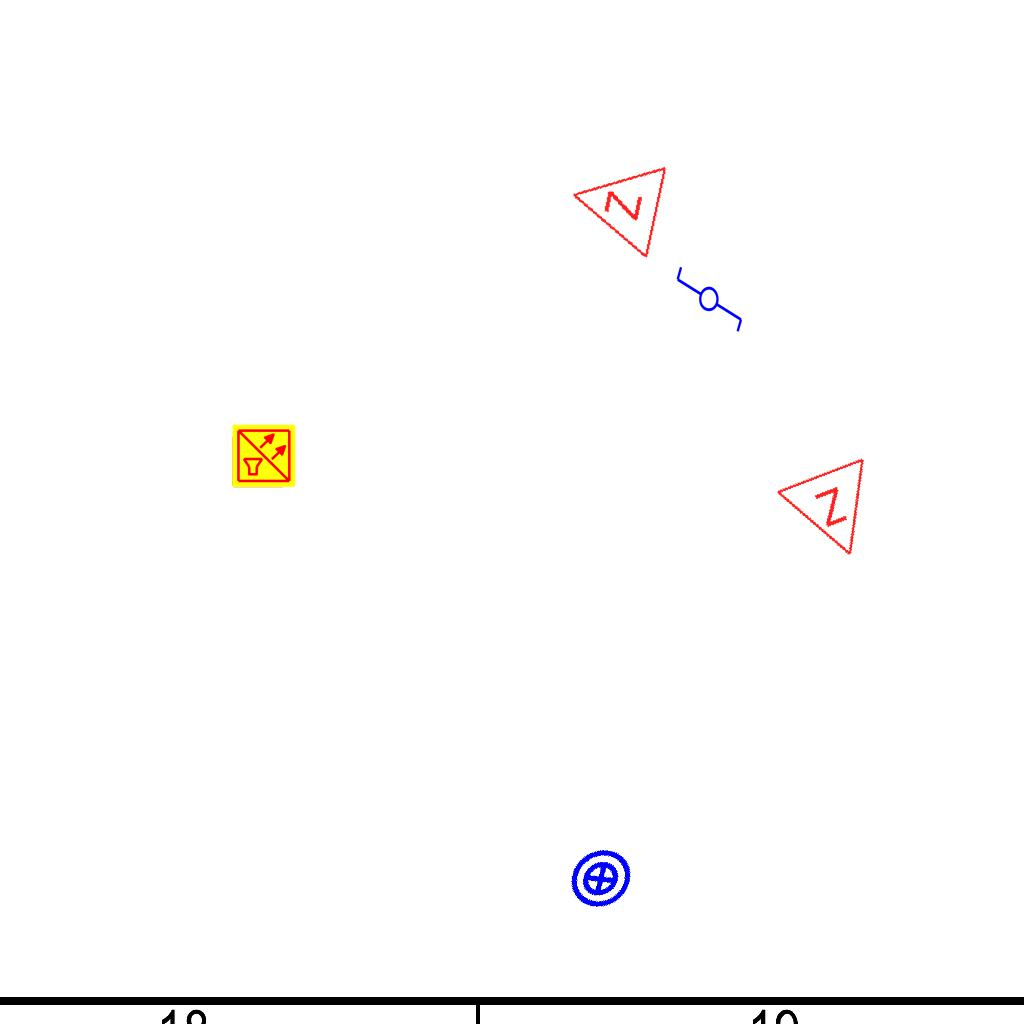OKW_Multisensormelder_(Kombination_optischer_Rauch-Kahlenmonoxid_Waerme-Melder): (231, 423, 297, 489)
Taster_beleuchtet: (555, 833, 647, 925)
Wechselschalter: (674, 256, 746, 334)
Zimmersignalleuchte: (772, 449, 900, 579), (555, 146, 675, 264)
